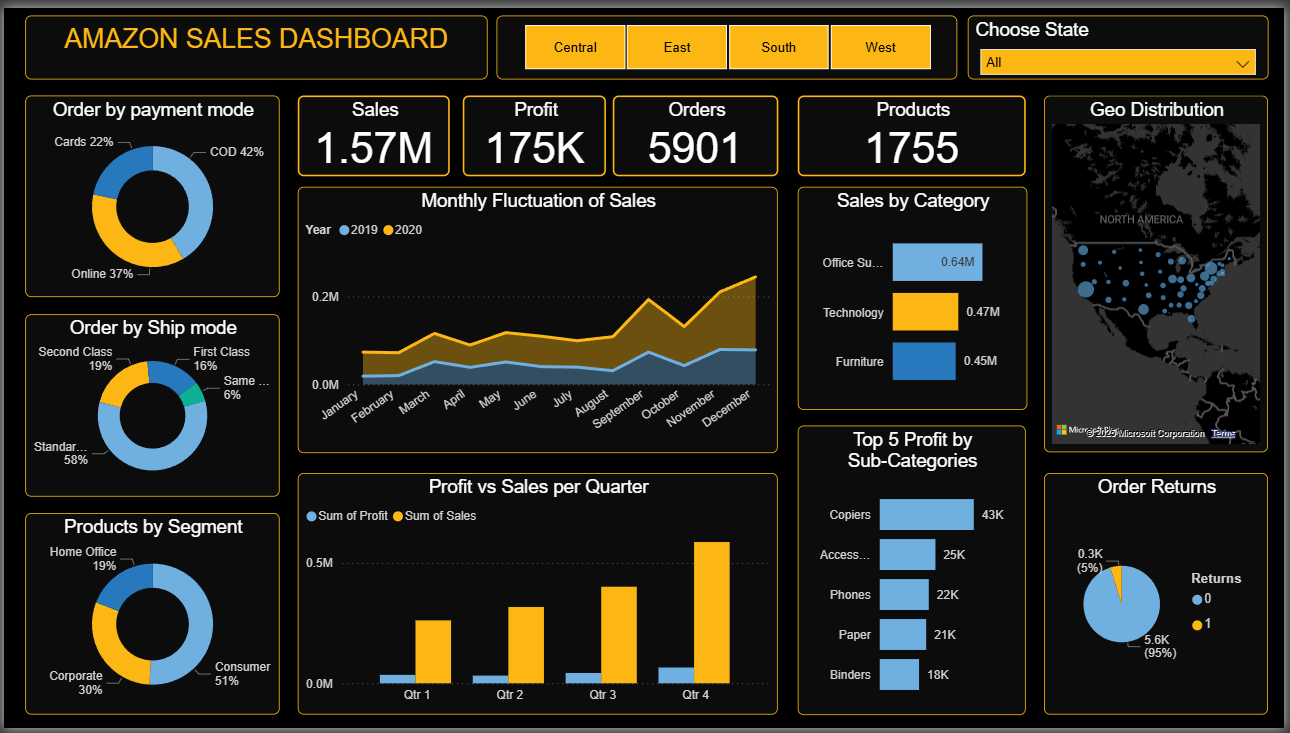

This screenshot's page, from the dashboard's own definition file:
{"tool":"powerbi","page":{"name":"Page 1","canvas":[1280,720],"ordinal":0},"visuals":[{"type":"clusteredBarChart","title":"Sales by Category","fields":{"Category":["Amazon Sales Data - Sheet1.Category"],"Y":["Sum(Amazon Sales Data - Sheet1.Sales)"]},"box":[793.8,178.6,229.2,223.2],"z":0},{"type":"clusteredBarChart","title":"Top 5 Profit by Sub-Categories","fields":{"Category":["Amazon Sales Data - Sheet1.Sub-Category"],"Y":["Sum(Amazon Sales Data - Sheet1.Profit)"]},"box":[793.8,417.4,228,289.5],"z":1000},{"type":"donutChart","title":"Order by payment mode","fields":{"Category":["Amazon Sales Data - Sheet1.//"],"Y":["CountNonNull(Amazon Sales Data - Sheet1.Order ID)"]},"box":[21.7,88.1,254.6,201.5],"z":2000},{"type":"donutChart","title":"Order by Ship mode","fields":{"Y":["CountNonNull(Amazon Sales Data - Sheet1.Order ID)"],"Category":["Amazon Sales Data - Sheet1.Ship Mode"]},"box":[21.7,306.4,254.6,182.2],"z":3000},{"type":"donutChart","title":"Products by Segment","fields":{"Category":["Amazon Sales Data - Sheet1.Segment"],"Y":["CountNonNull(Amazon Sales Data - Sheet1.Product Name)"]},"box":[21.7,505.5,254.6,201.5],"z":4000},{"type":"map","title":"Geo Distribution","fields":{"Size":["Sum(Amazon Sales Data - Sheet1.Sales)"],"Category":["Amazon Sales Data - Sheet1.State"]},"box":[1040,88.1,224.4,357.1],"z":5000},{"type":"pieChart","title":"Order Returns","fields":{"Category":["Amazon Sales Data - Sheet1.Returns"],"Y":["CountNonNull(Amazon Sales Data - Sheet1.Order ID)"]},"box":[1040,464.5,224.4,241.3],"z":6000},{"type":"stackedAreaChart","title":"Monthly Fluctuation of Sales","fields":{"Y":["Sum(Amazon Sales Data - Sheet1.Sales)"],"Category":["Amazon Sales Data - Sheet1.Order Date.Variation.Date Hierarchy.Month"],"Series":["Amazon Sales Data - Sheet1.Order Date.Variation.Date Hierarchy.Year"]},"box":[294.4,178.6,480.2,266.6],"z":7000},{"type":"clusteredColumnChart","title":"Profit vs Sales per Quarter","fields":{"Category":["Amazon Sales Data - Sheet1.Order Date.Variation.Date Hierarchy.Quarter"],"Y":["Sum(Amazon Sales Data - Sheet1.Profit)","Sum(Amazon Sales Data - Sheet1.Sales)"]},"box":[294.4,464.5,480.2,241.3],"z":8000},{"type":"slicer","fields":{"Values":["Amazon Sales Data - Sheet1.Region"]},"box":[492.2,7.2,460.9,63.9],"z":9000},{"type":"slicer","title":"Choose State","fields":{"Values":["Amazon Sales Data - Sheet1.State"]},"box":[963.9,7.2,300.4,63.9],"z":10000},{"type":"card","title":"Sales","fields":{"Values":["Sum(Amazon Sales Data - Sheet1.Sales)"]},"box":[294.4,88.1,152,80.8],"z":11000},{"type":"card","title":"Profit","fields":{"Values":["Sum(Amazon Sales Data - Sheet1.Profit)"]},"box":[458.4,88.1,143.6,80.8],"z":12000},{"type":"card","title":"Orders","fields":{"Values":["CountNonNull(Amazon Sales Data - Sheet1.Order ID)"]},"box":[609.3,88.1,165.3,80.8],"z":13000},{"type":"card","title":"Products","fields":{"Values":["Count(Amazon Sales Data - Sheet1.Product ID)"]},"box":[793.8,88.1,228,80.8],"z":14000},{"type":"textbox","box":[21.7,7.2,462.1,63.9],"z":15000}]}

Visuals, with their boxes in screenshot pixels (x1, y1, x2, y2), scaled from the page's 1280x720 canvas onto the 1290x733 screenshot:
"Sales by Category" clusteredBarChart: x1=800, y1=182, x2=1031, y2=409
"Top 5 Profit by Sub-Categories" clusteredBarChart: x1=800, y1=425, x2=1030, y2=720
"Order by payment mode" donutChart: x1=22, y1=90, x2=278, y2=295
"Order by Ship mode" donutChart: x1=22, y1=312, x2=278, y2=497
"Products by Segment" donutChart: x1=22, y1=515, x2=278, y2=720
"Geo Distribution" map: x1=1048, y1=90, x2=1274, y2=453
"Order Returns" pieChart: x1=1048, y1=473, x2=1274, y2=719
"Monthly Fluctuation of Sales" stackedAreaChart: x1=297, y1=182, x2=781, y2=453
"Profit vs Sales per Quarter" clusteredColumnChart: x1=297, y1=473, x2=781, y2=719
slicer - Amazon Sales Data - Sheet1.Region: x1=496, y1=7, x2=961, y2=72
"Choose State" slicer: x1=971, y1=7, x2=1274, y2=72
"Sales" card: x1=297, y1=90, x2=450, y2=172
"Profit" card: x1=462, y1=90, x2=607, y2=172
"Orders" card: x1=614, y1=90, x2=781, y2=172
"Products" card: x1=800, y1=90, x2=1030, y2=172
textbox: x1=22, y1=7, x2=488, y2=72
